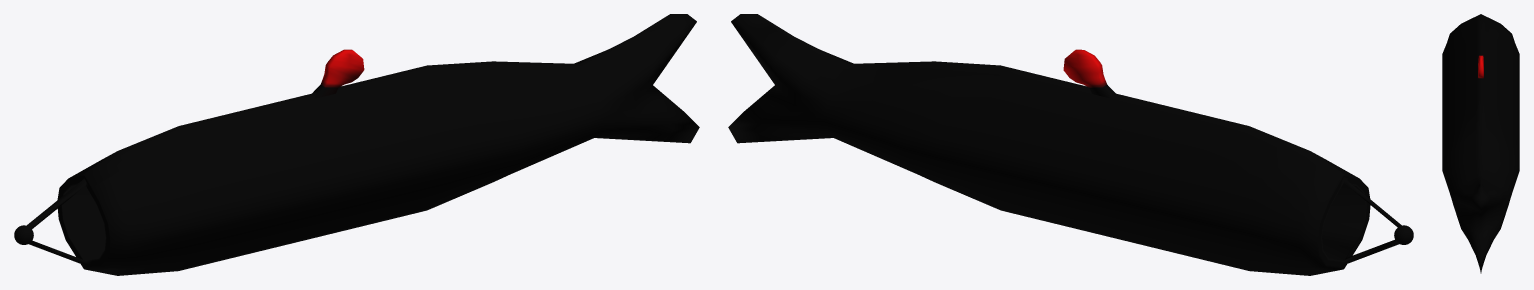
The model's file is Koinobori4.fbx.
3 views of the same model, side by side, from view 1: azimuth 30°, elevation 25°; view 2: azimuth 150°, elevation 25°; view 3: azimuth 270°, elevation 25° (orthographic). The views are drawn at different scales.
Parts seen in each view (by area): view 1: Koinobori; view 2: Koinobori; view 3: Koinobori.
Part boxes in pixels (bbox=[...]): Koinobori: bbox=[14, 14, 699, 275]; Koinobori: bbox=[728, 14, 1413, 275]; Koinobori: bbox=[1442, 14, 1519, 273].
Bounding box in the file's own units: 92.27 × 23.2 × 14.26.
